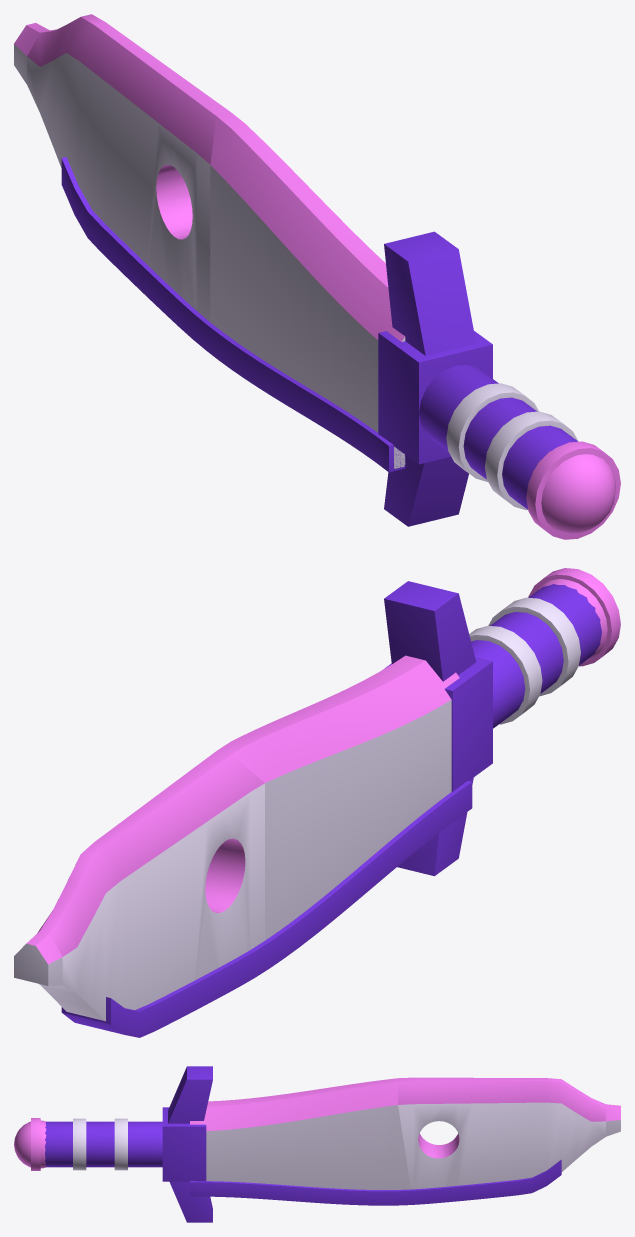
The model's file is Boss_VoidWraith.glb.
3 views of the same model, one above another, from view 1: azimuth 30°, elevation 25°; view 2: azimuth 150°, elevation 25°; view 3: azimuth 270°, elevation 25° (orthographic). The views are drawn at different scales.
Parts seen in each view (by area): view 1: Boss_VoidWraith; view 2: Boss_VoidWraith; view 3: Boss_VoidWraith.
Part boxes in pixels (x1,y1,x2,y2): Boss_VoidWraith: (14,14,620,539); Boss_VoidWraith: (14,568,620,1037); Boss_VoidWraith: (14,1066,620,1222).
Bounding box in the file's own units: 0.088 × 0.26 × 1.
Materials: 1 (1 with a texture image).
